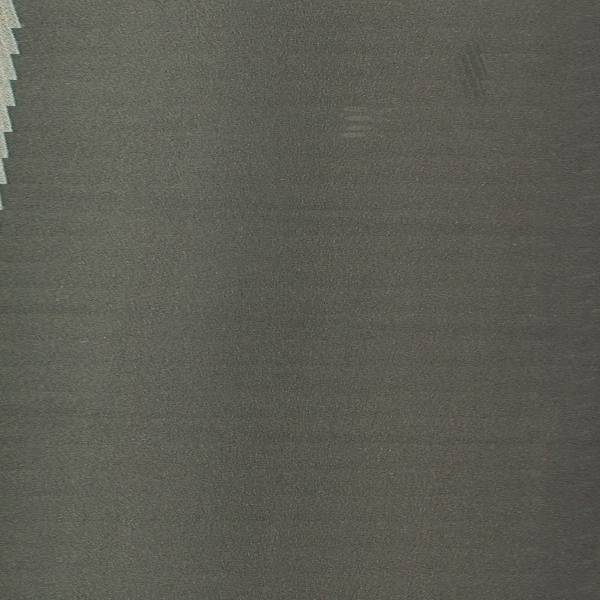road_damage: (326, 101, 377, 144)
